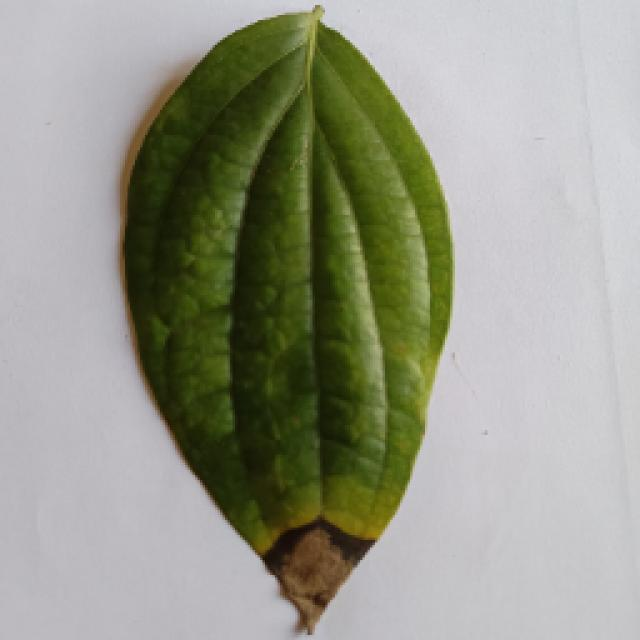footrot: (95, 20, 477, 632)
